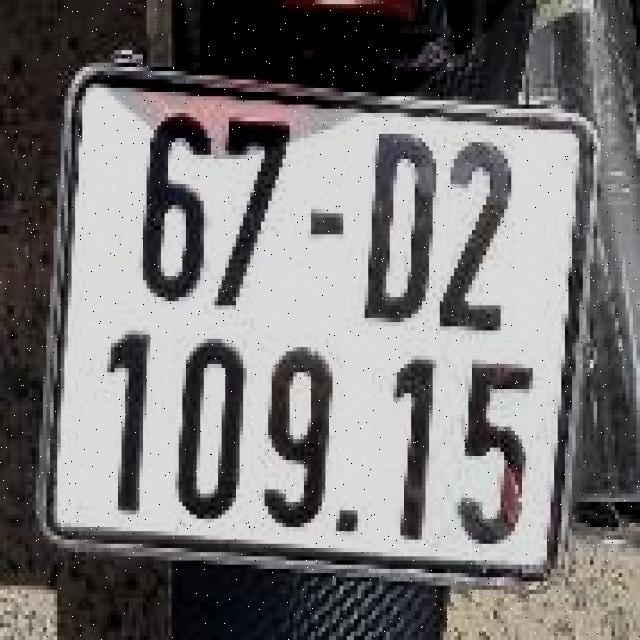0: (172, 331, 246, 518)
1: (96, 324, 161, 512), (388, 352, 441, 540)
2: (436, 136, 526, 337)
5: (456, 352, 538, 556)
6: (140, 105, 208, 301)
7: (218, 111, 293, 307)
9: (258, 330, 336, 536)
D: (361, 121, 440, 326)
